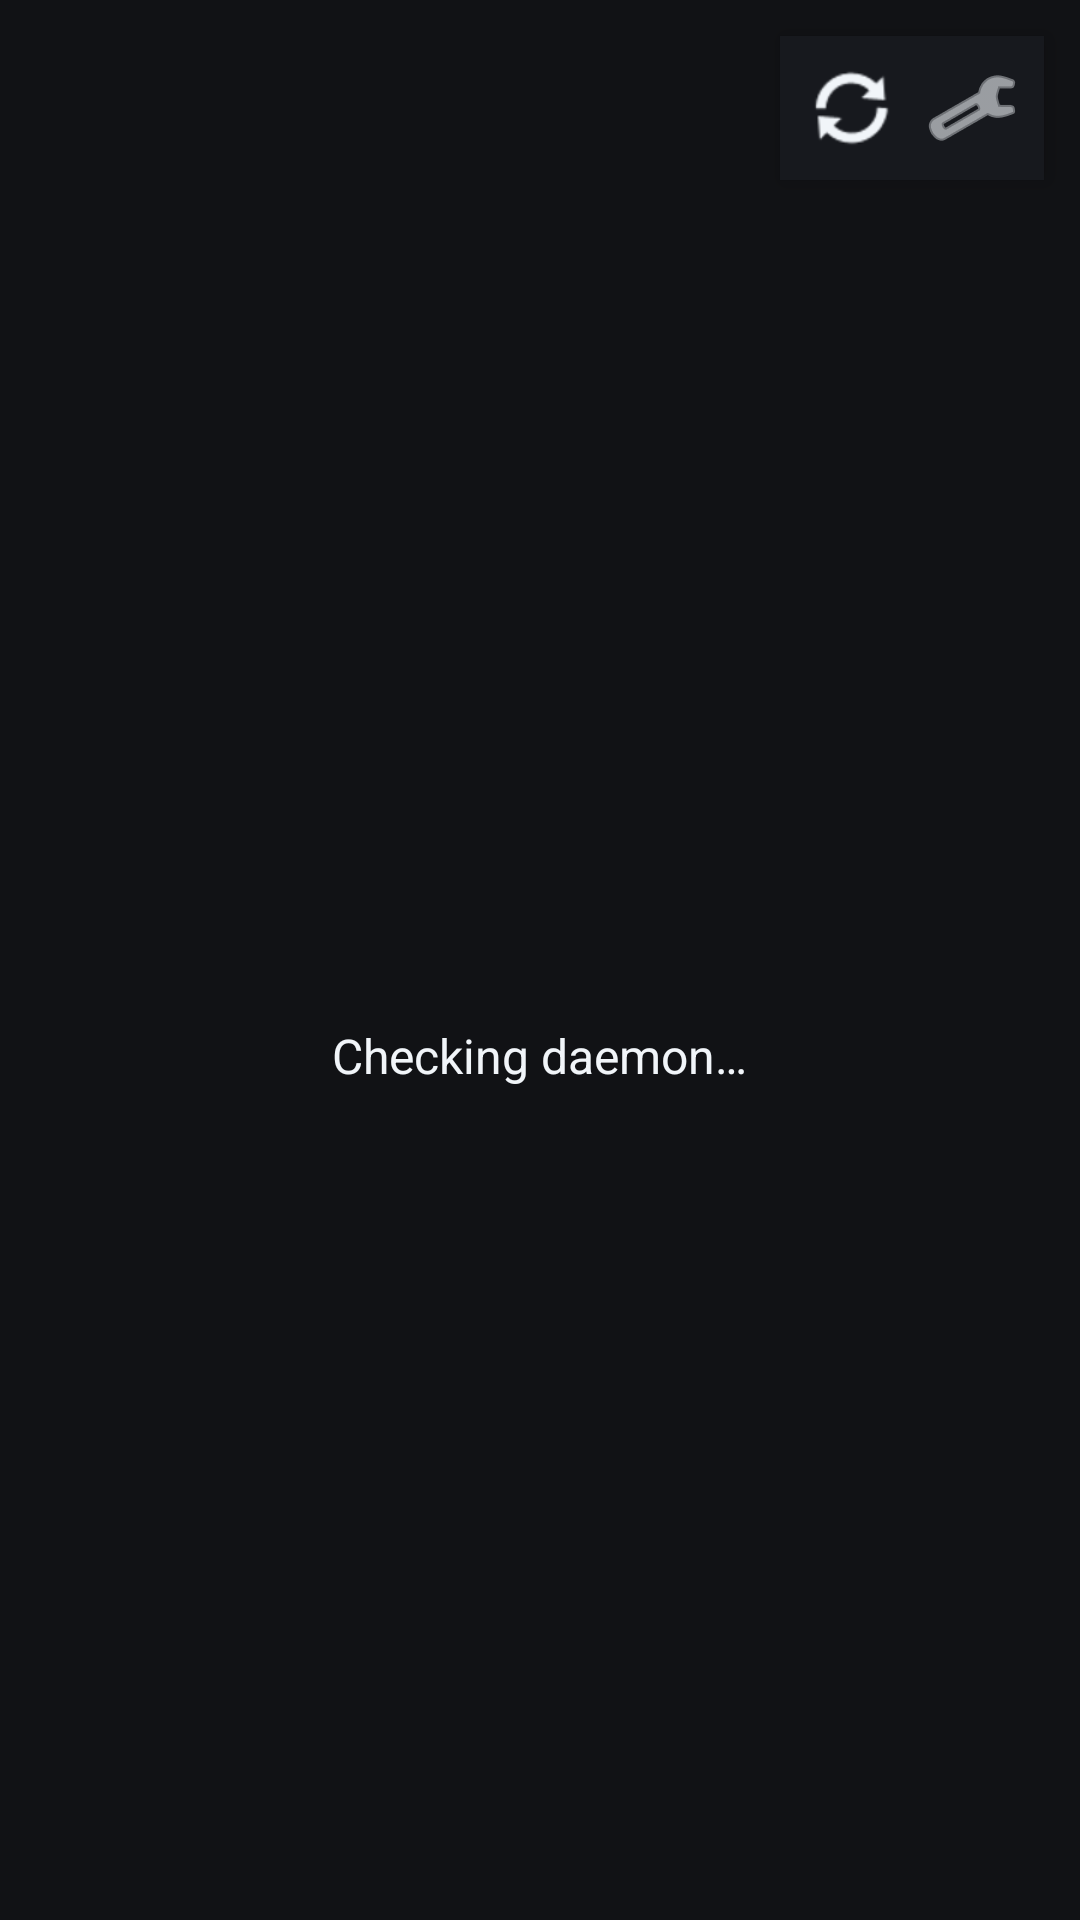

Icons on this 1080w x 1920h Android screen, each with the point to tap as (x=x, y=y):
Reload: (x=852, y=108)
Shell Settings: (x=972, y=108)
